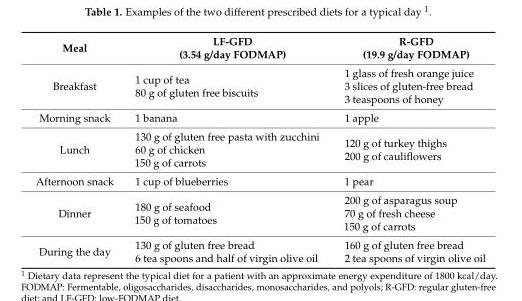table: (34, 34, 484, 263)
table column: (123, 34, 330, 263), (330, 34, 484, 263), (34, 34, 123, 263)
table column header: (34, 34, 484, 63)
table row: (34, 126, 484, 171), (34, 190, 484, 235), (34, 63, 484, 107), (34, 34, 484, 63), (34, 235, 484, 263), (34, 107, 484, 126), (34, 171, 484, 190)
